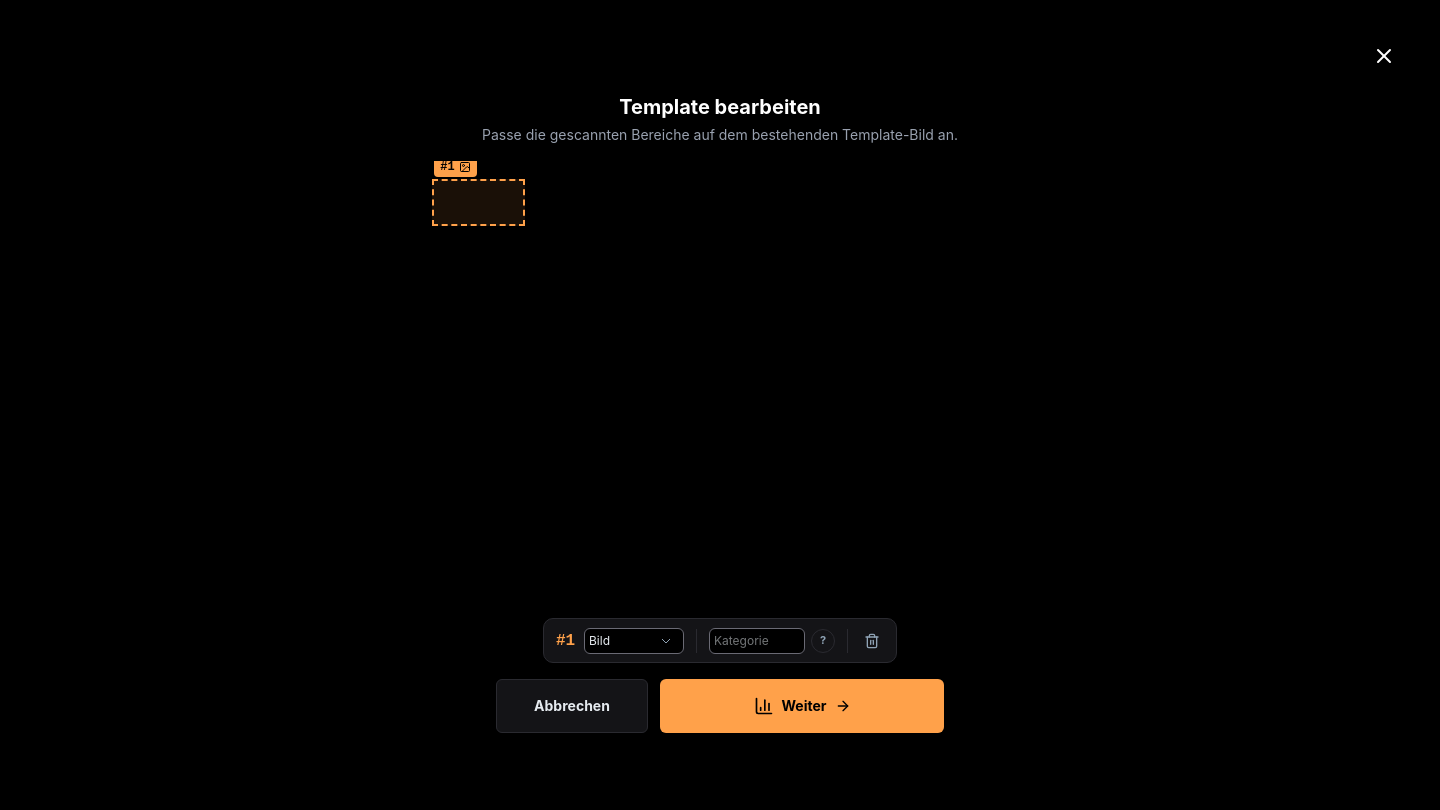
Test case: TemplateEditor › stability analysis panel › shows rating, stats and recommendation in the modal after a batch run
Check: the number of buttons titled "Region löschen" is 1, box [860,629,884,653]
Click the button "Weiter" at x=802, y=706, box [660,679,944,733]
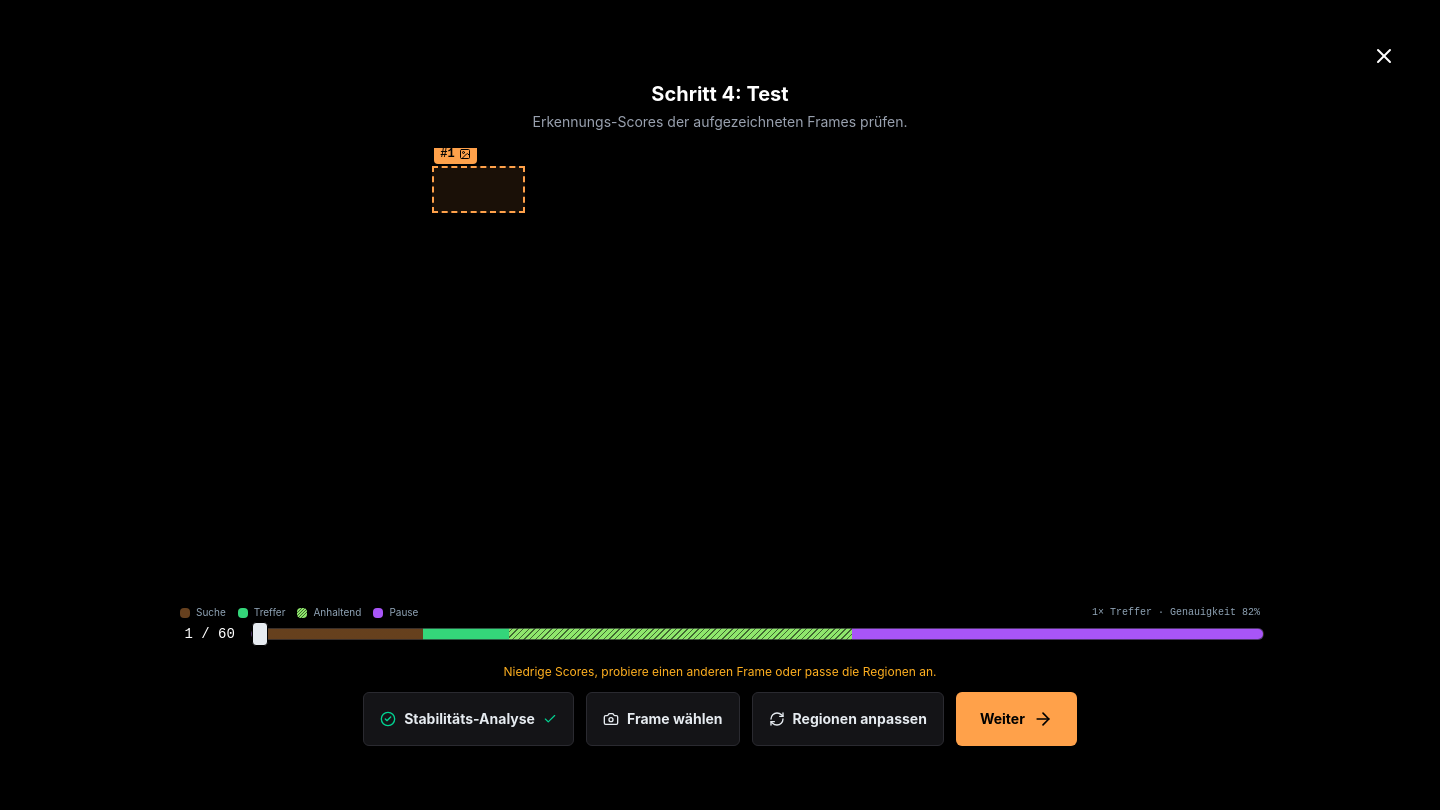
Check: the button "Frame wählen" is shown, box [586,692,740,746]
Click the button named "Stabilitäts-Analyse:" at x=468, y=719, box [363,692,574,746]
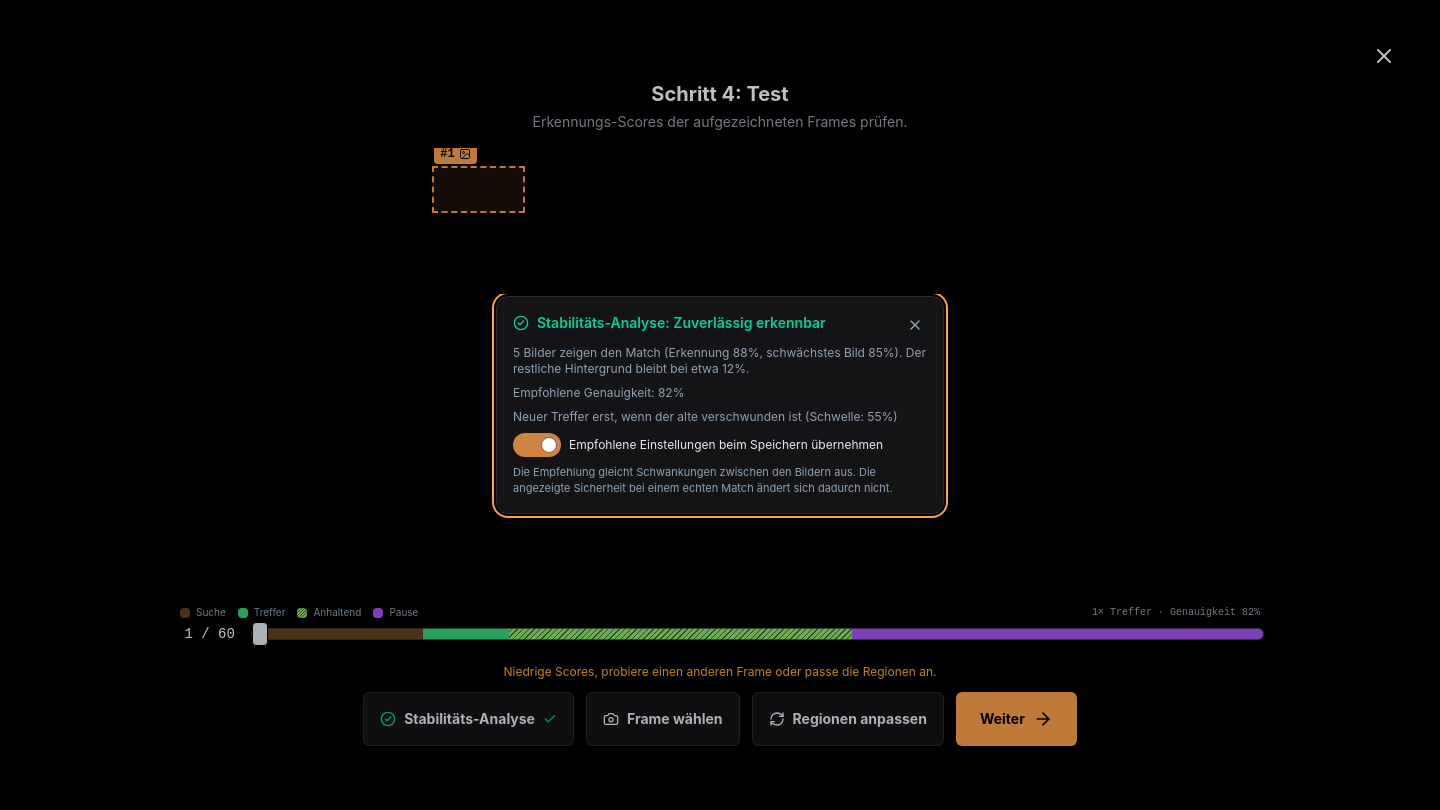
Check: the text "Stabilitäts-Analyse: Zuverlässig erkennbar" is shown, box [537,313,826,333]
Check: the text "5 Bilder zeigen den Match" is shown, box [513,345,926,376]
Check: the text "Empfohlene Genauigkeit: 82%" is shown, box [513,385,684,400]
